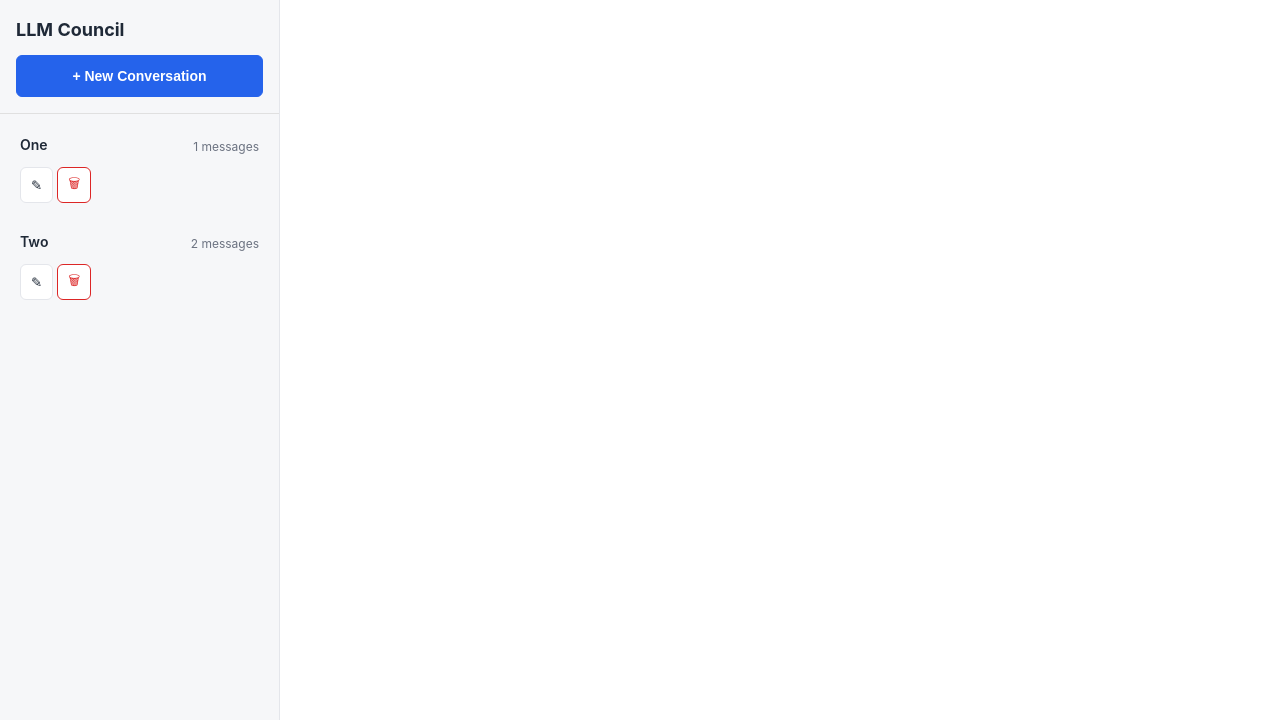
Test: handles rapid consecutive deletions
Step 1. Click the button named "delete conversation" → (74, 185), box [57,167,91,203]
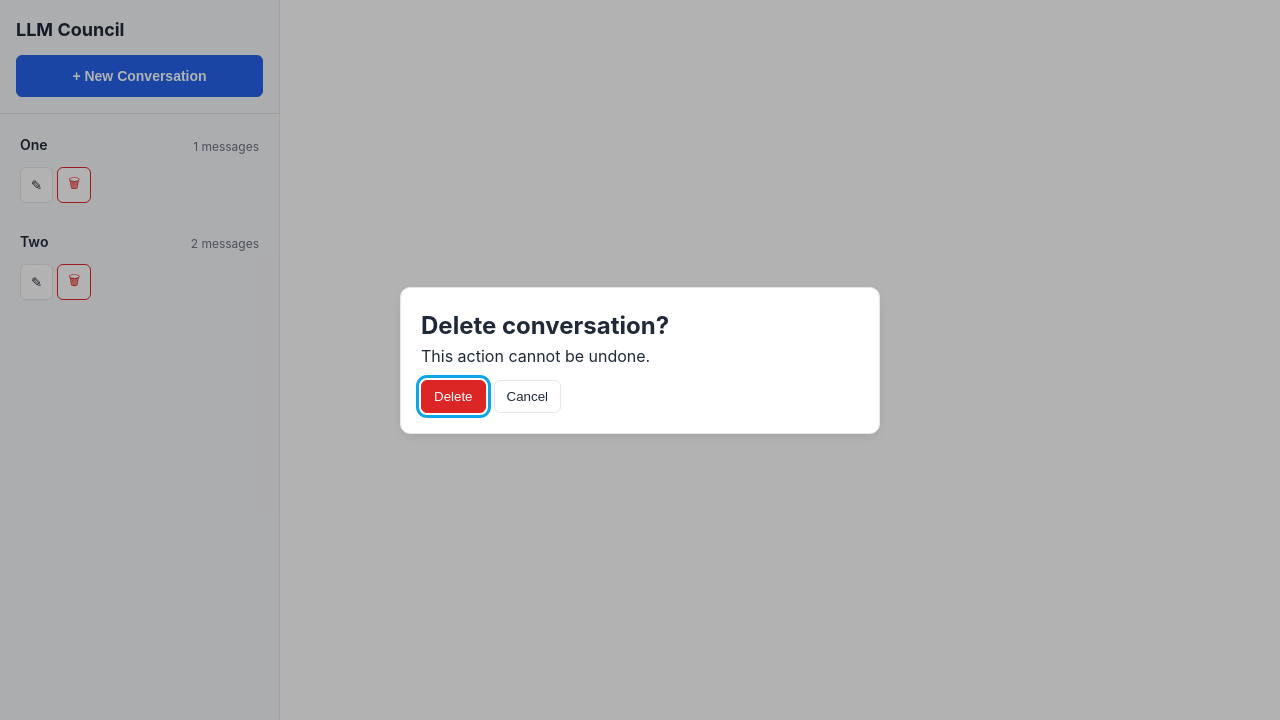
Step 2. Click the button "Delete" → (453, 396), box [421,380,486,412]
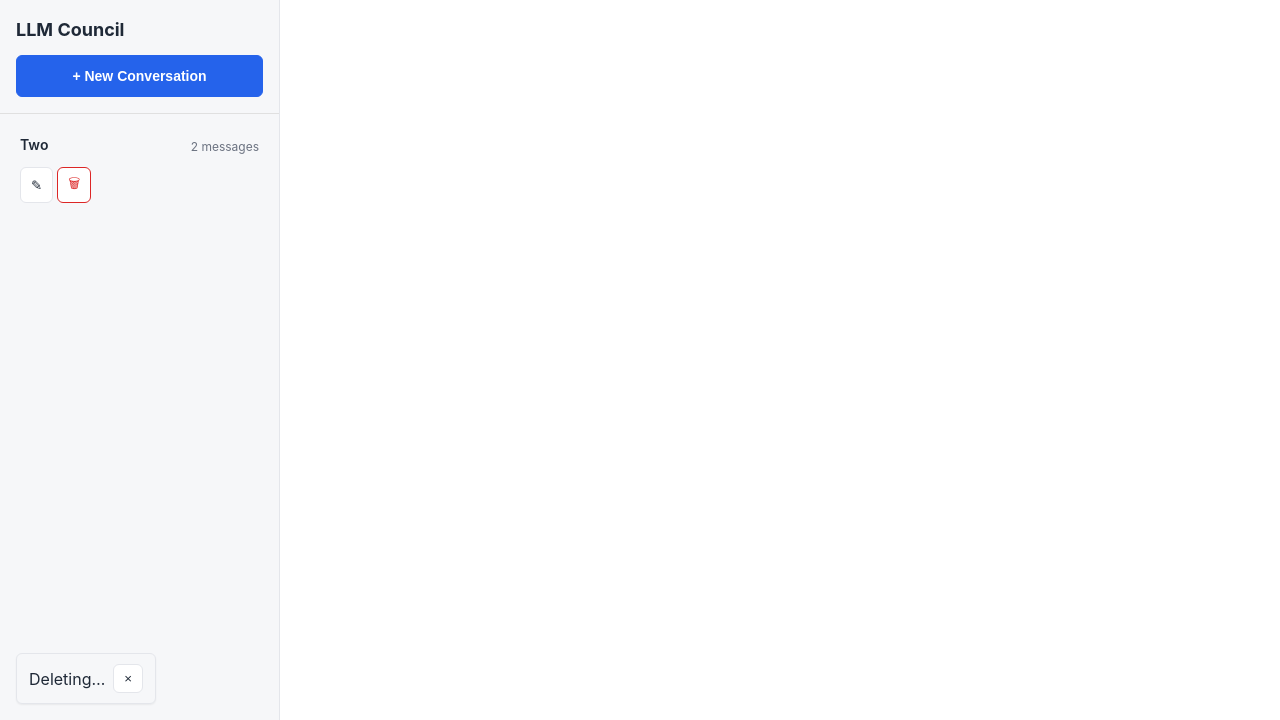
Step 3. Click the button named "delete conversation" → (74, 185), box [57,167,91,203]
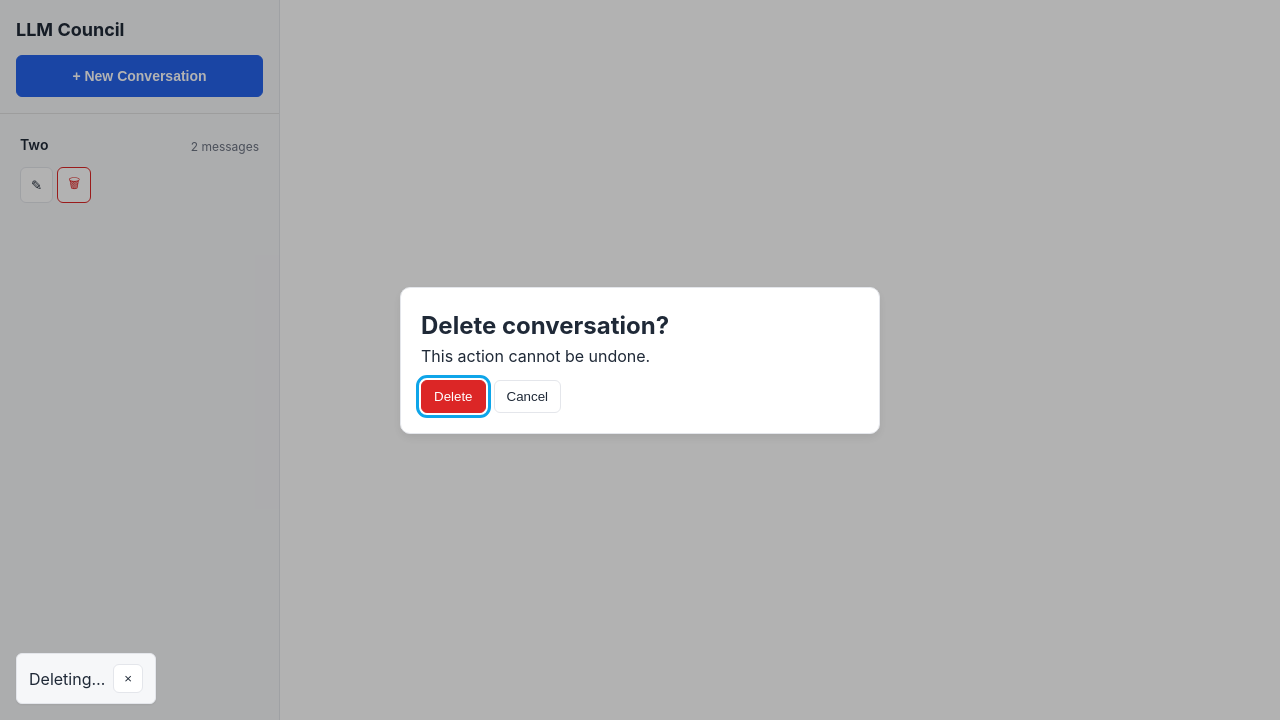
Step 4. Click the button "Delete" → (453, 396), box [421,380,486,412]
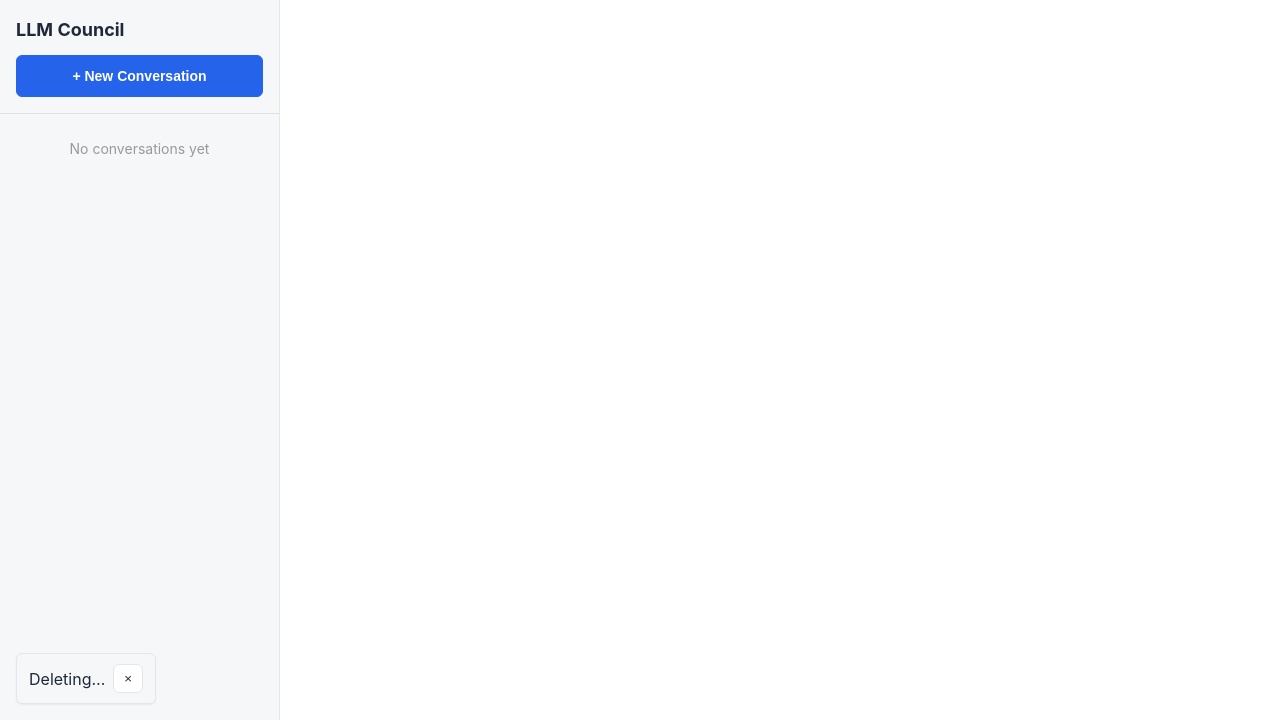
Result: no headings "Delete conversation" are shown
